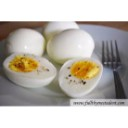begg: (4, 53, 56, 88), (62, 59, 103, 94), (9, 30, 45, 51)
